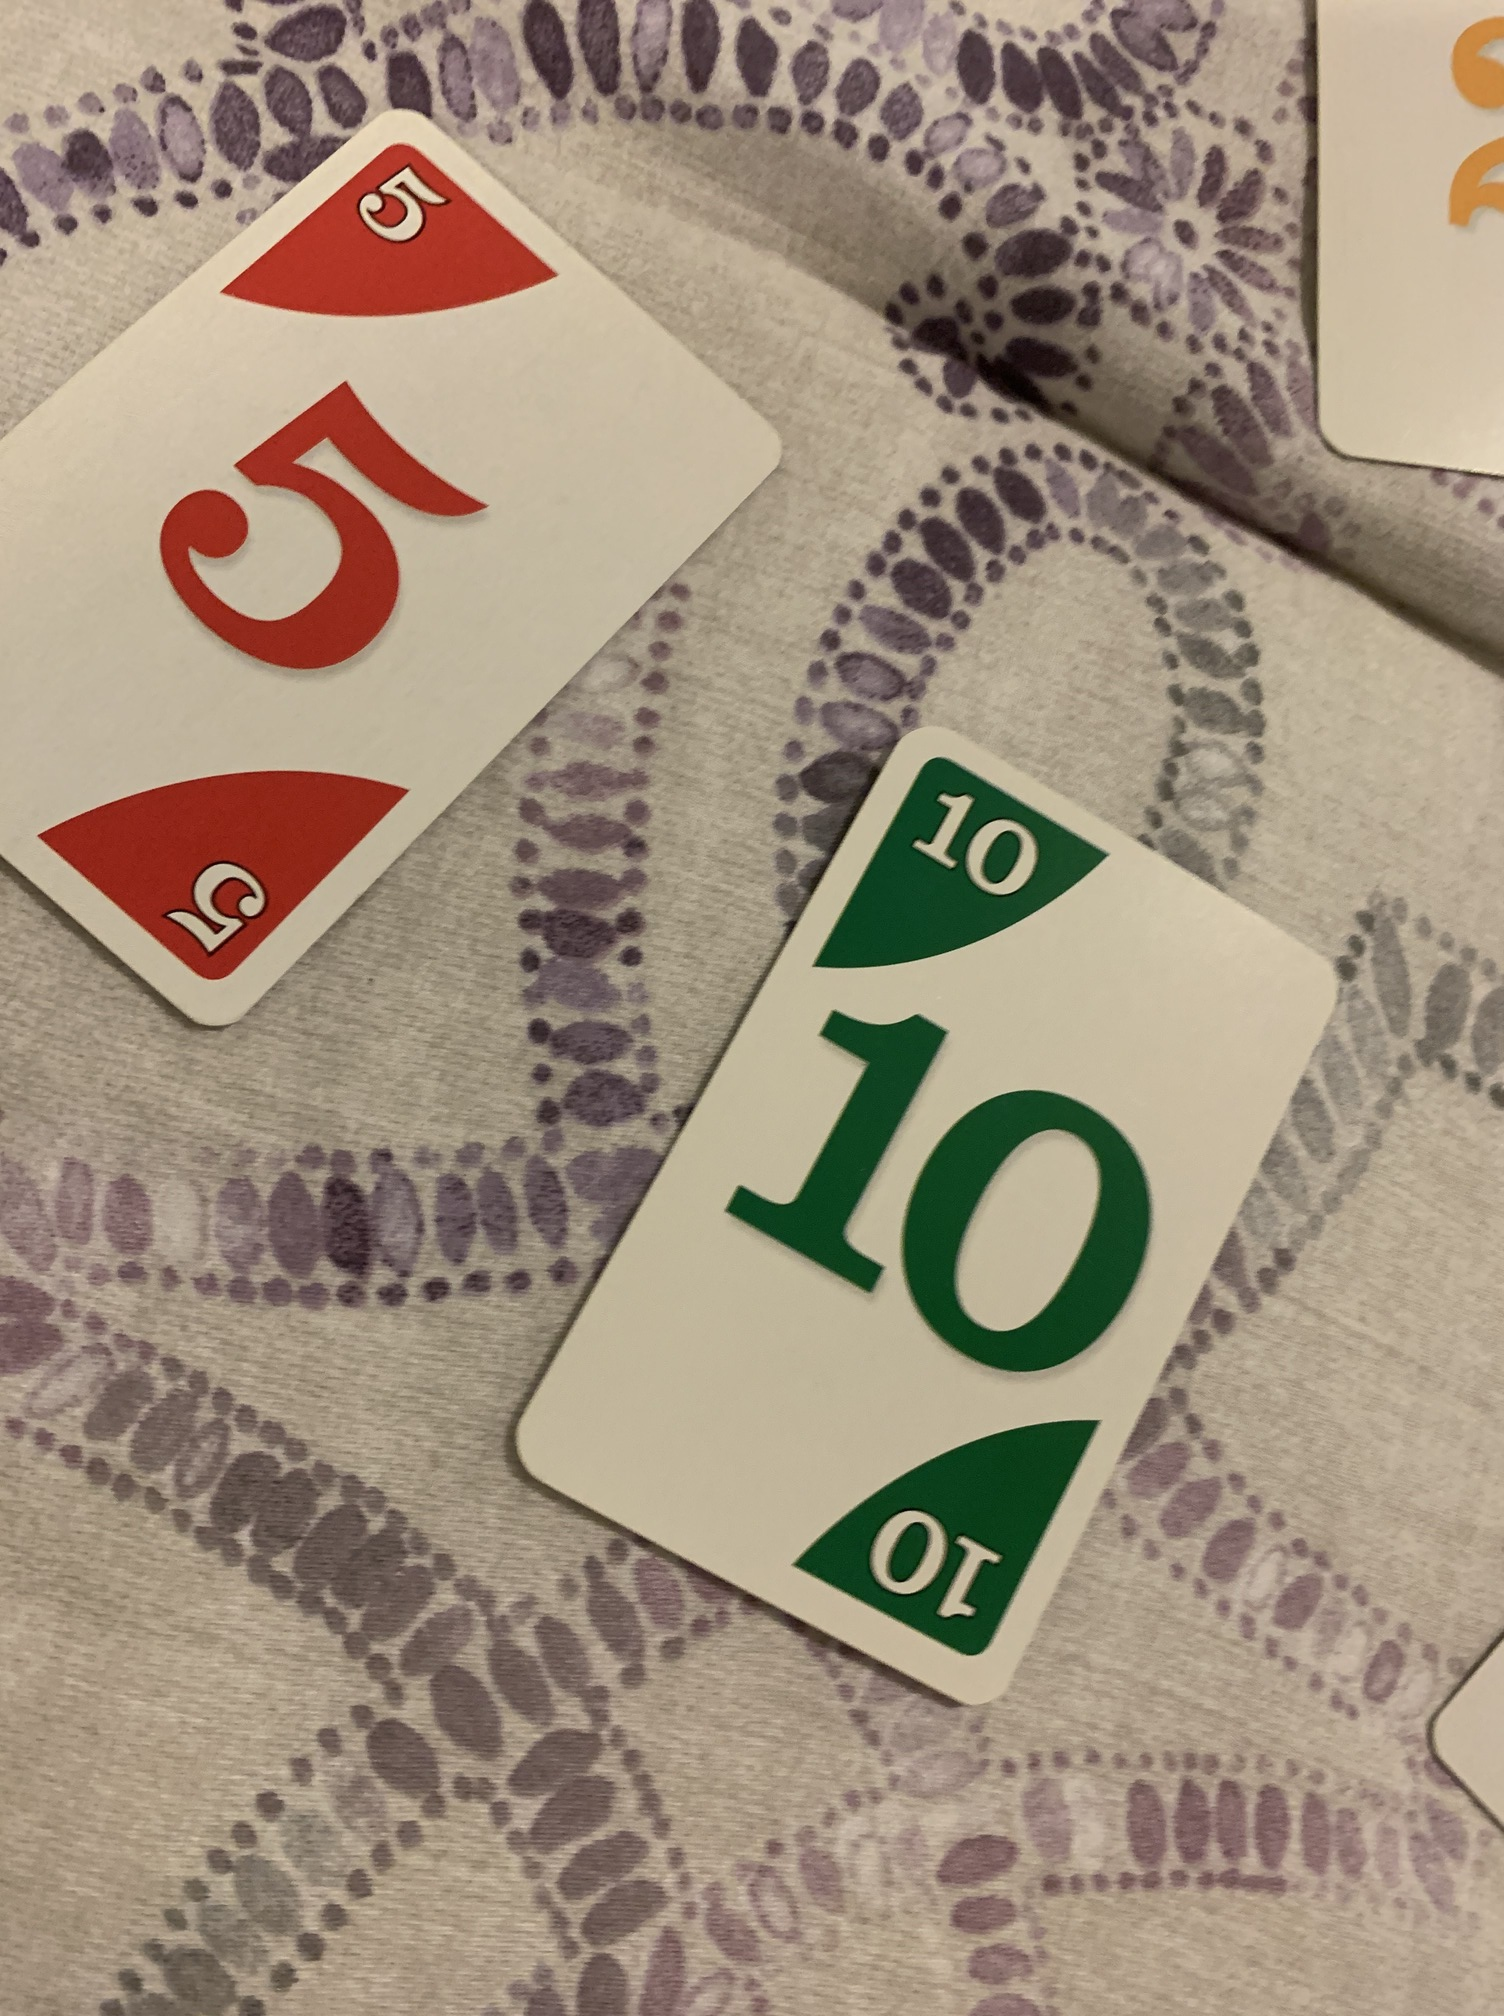five: (3, 98, 793, 1047)
ten: (509, 716, 1355, 1708)
